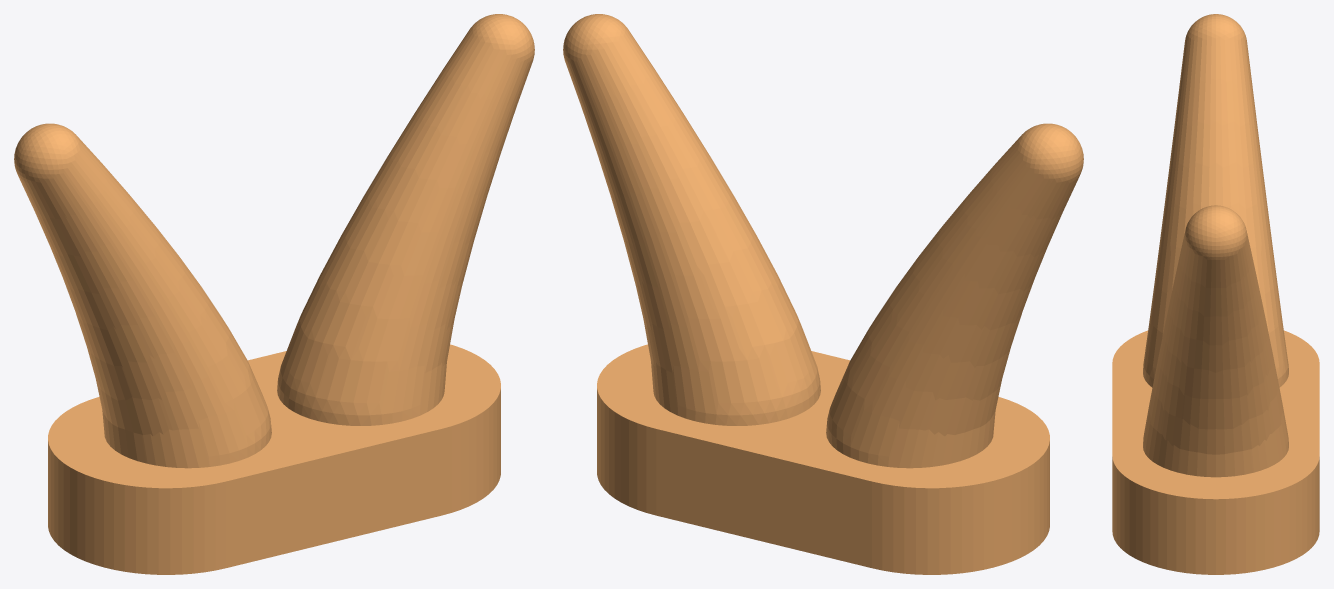
Rendered from bumper-horns.glb.
3 views of the same model, side by side, from view 1: azimuth 30°, elevation 25°; view 2: azimuth 150°, elevation 25°; view 3: azimuth 270°, elevation 25° (orthographic). The views are drawn at different scales.
Visible parts, largest first — view 1: bumper-horns; view 2: bumper-horns; view 3: bumper-horns.
Part boxes in pixels (x1,y1,x2,y2): bumper-horns: (14, 14, 534, 574); bumper-horns: (563, 14, 1083, 574); bumper-horns: (1112, 14, 1319, 574).
Bounding box in the file's own units: 0.0296 × 0.0236 × 0.0119.
